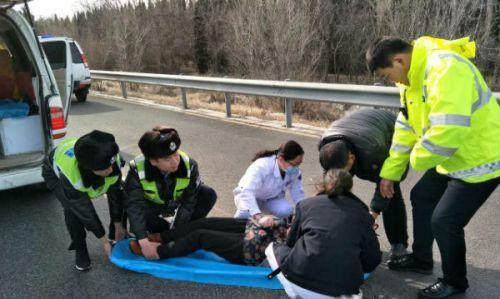fall: (127, 208, 311, 271)
